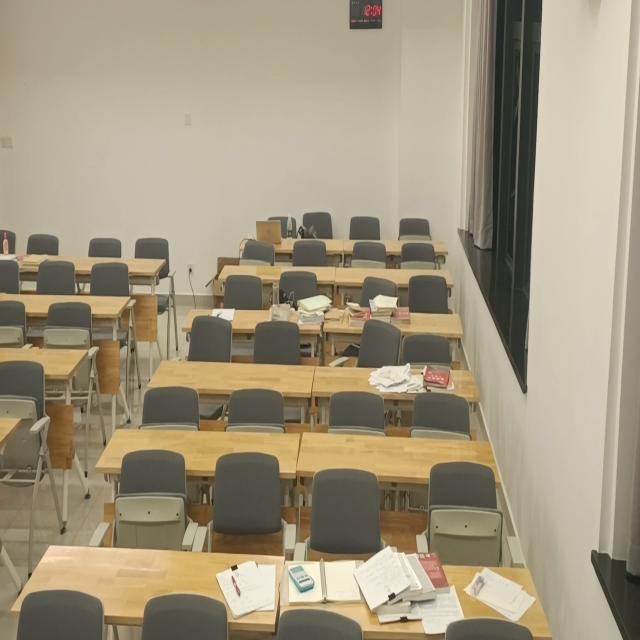Non-empty: (12, 543, 285, 625), (282, 557, 553, 633), (312, 362, 480, 400), (323, 306, 462, 336), (182, 303, 328, 331), (239, 236, 343, 253), (0, 250, 55, 271)
empty: (96, 423, 299, 477), (297, 429, 499, 483), (151, 356, 317, 394), (46, 255, 167, 279), (335, 264, 451, 287)
